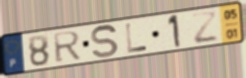1: (167, 13, 183, 50)
8: (26, 34, 51, 68)
L: (124, 22, 149, 54)
R: (51, 29, 83, 65)
S: (90, 24, 120, 59)
Z: (190, 10, 220, 45)
